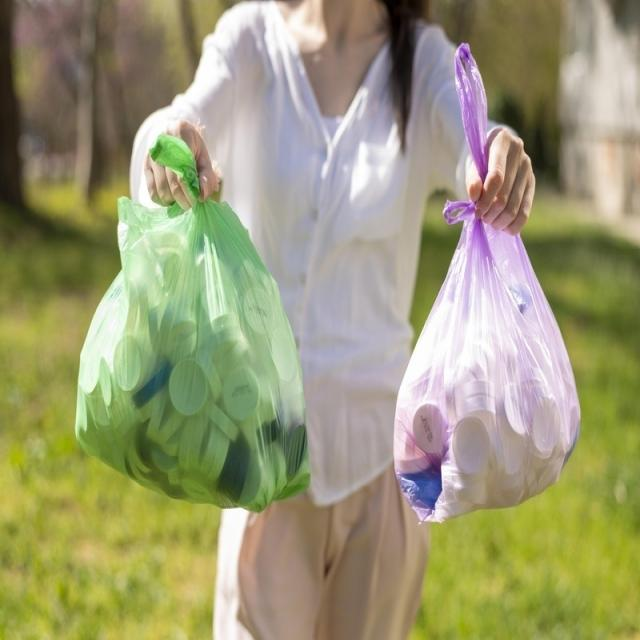sampah-detection: (392, 41, 586, 532), (75, 134, 314, 518)
